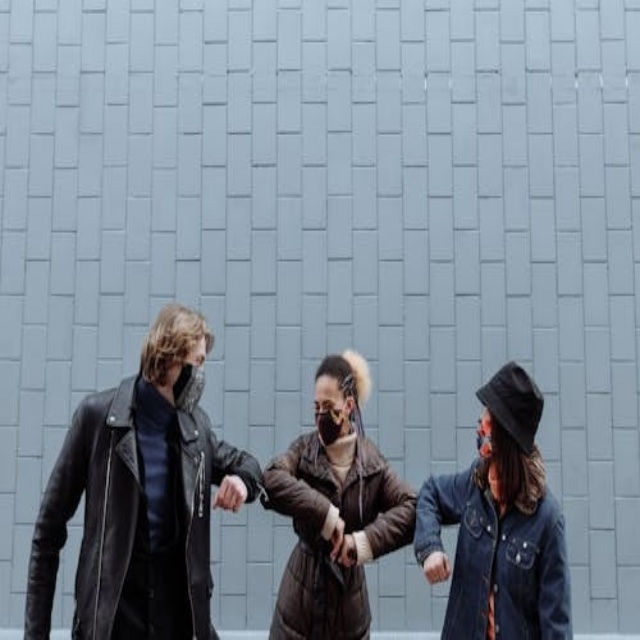Mascara: (316, 401, 350, 445), (175, 365, 205, 414), (476, 429, 492, 454)
Sin_gafas: (312, 392, 342, 415), (186, 344, 212, 367)
Sin_guantes: (206, 467, 251, 519), (325, 515, 361, 575), (415, 542, 456, 590)
